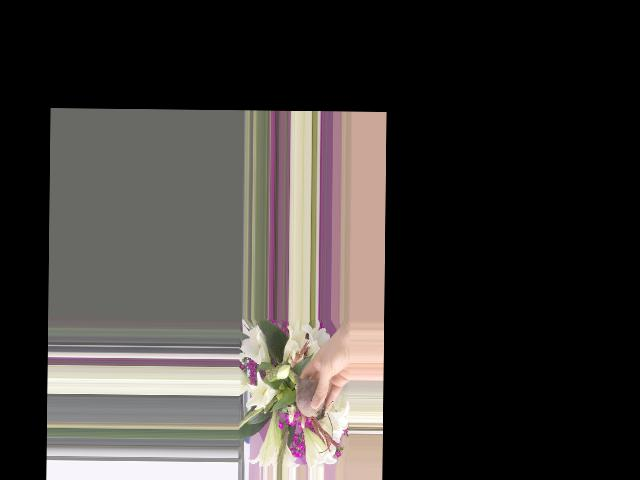beet: (288, 367, 326, 421)
